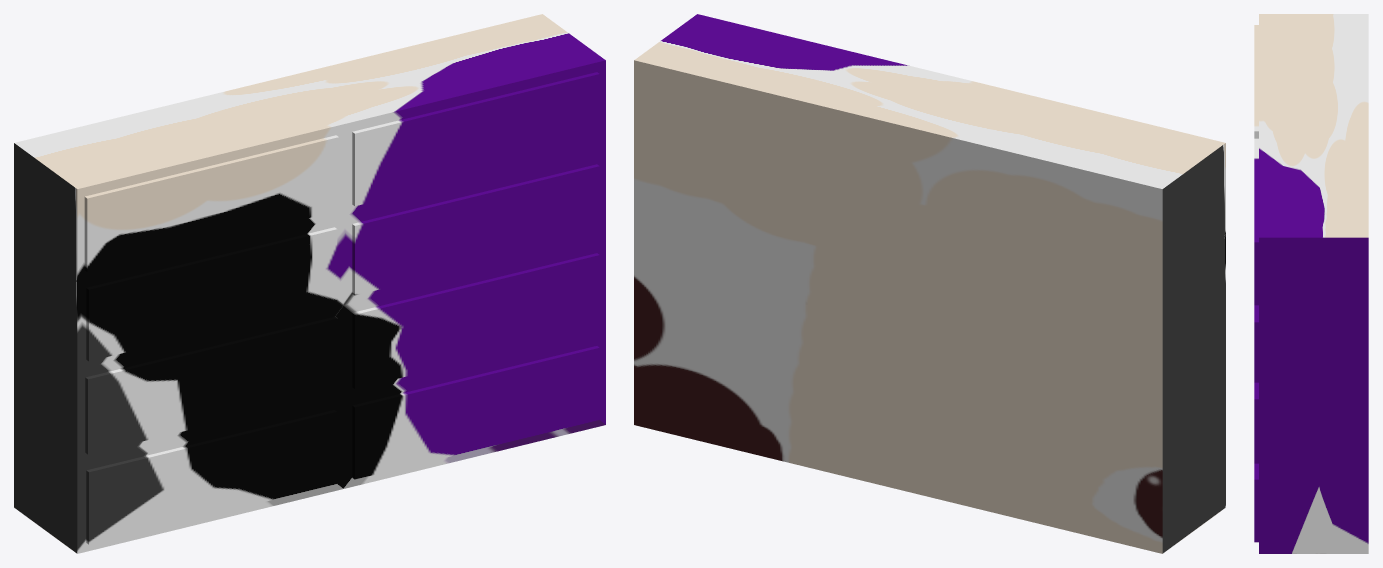
File: balcao.fbx
3 views of the same model, side by side, from view 1: azimuth 30°, elevation 25°; view 2: azimuth 150°, elevation 25°; view 3: azimuth 270°, elevation 25° (orthographic). The views are drawn at different scales.
Visible parts, largest first — view 1: pCube3; view 2: pCube3; view 3: pCube3.
Part boxes in pixels (left/top/right/bottom): pCube3: left=14, top=14, right=605, bottom=553; pCube3: left=634, top=14, right=1225, bottom=553; pCube3: left=1254, top=14, right=1368, bottom=553.
Bounding box in the file's own units: 16.08 × 10.61 × 3.47.
